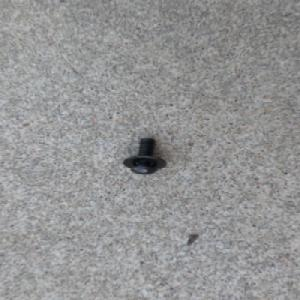BoltWasher: (122, 136, 168, 175)
